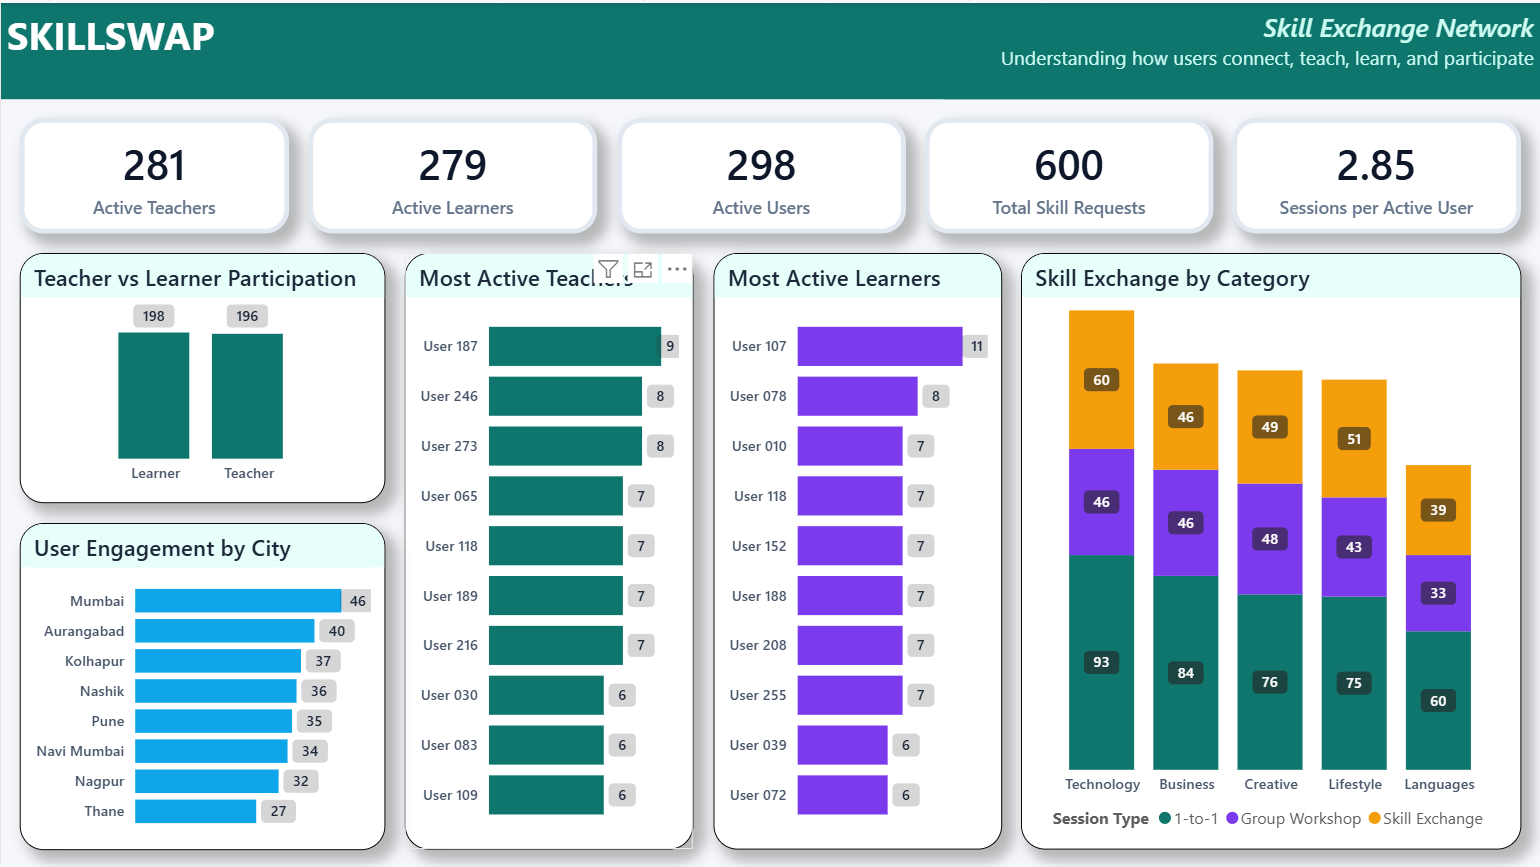

Layout of this report page (visuals, bound fields, positions):
{"tool":"powerbi","page":{"name":"Skill Exchange Network","canvas":[1280,720],"ordinal":3},"visuals":[{"type":"textbox","box":[0,0,1280,80],"z":0},{"type":"textbox","box":[784,0,496,80],"z":1000},{"type":"card","fields":{"Values":["Sessions.Active Teachers"]},"box":[16,96,224,96],"z":2000},{"type":"card","fields":{"Values":["Sessions.Active Learners"]},"box":[256,96,240,96],"z":3000},{"type":"card","fields":{"Values":["Sessions.Active Users"]},"box":[512,96,240,96],"z":4000},{"type":"card","fields":{"Values":["Sessions.Total Skill Requests"]},"box":[768,96,240,96],"z":5000},{"type":"card","fields":{"Values":["Sessions.Sessions per Active User"]},"box":[1024,96,240,96],"z":6000},{"type":"clusteredColumnChart","title":"Teacher vs Learner Participation","fields":{"Category":["Participation Type.Role"],"Y":["Participation Type.Participation Count"]},"box":[16,208,304,208],"z":7000},{"type":"clusteredBarChart","title":"Most Active Teachers","fields":{"Category":["Users.User_Name"],"Y":["Sessions.Teacher Sessions"]},"box":[336,208,240,496],"z":8000},{"type":"clusteredBarChart","title":"Most Active Learners","fields":{"Category":["Users.User_Name"],"Y":["Sessions.Learner Sessions"]},"box":[592,208,240,496],"z":9000},{"type":"clusteredBarChart","title":"User Engagement by City","fields":{"Category":["Users.City"],"Y":["Sessions.Active Users by City"]},"box":[16,432,304,272],"z":10000},{"type":"columnChart","title":"Skill Exchange by Category","fields":{"Category":["Skills.Category"],"Y":["Sessions.Completed Sessions"],"Series":["Sessions.Session_Type"]},"box":[848,208,416,496],"z":11000}]}

Visuals, with their boxes in screenshot pixels (x1, y1, x2, y2), scaled from the page's 1280x720 canvas onto the 1540x867 screenshot:
textbox: rect(0, 0, 1539, 96)
textbox: rect(943, 0, 1539, 96)
card - Sessions.Active Teachers: rect(19, 116, 289, 231)
card - Sessions.Active Learners: rect(308, 116, 597, 231)
card - Sessions.Active Users: rect(616, 116, 905, 231)
card - Sessions.Total Skill Requests: rect(924, 116, 1213, 231)
card - Sessions.Sessions per Active User: rect(1232, 116, 1521, 231)
"Teacher vs Learner Participation" clusteredColumnChart: rect(19, 250, 385, 501)
"Most Active Teachers" clusteredBarChart: rect(404, 250, 693, 848)
"Most Active Learners" clusteredBarChart: rect(712, 250, 1001, 848)
"User Engagement by City" clusteredBarChart: rect(19, 520, 385, 848)
"Skill Exchange by Category" columnChart: rect(1020, 250, 1521, 848)
